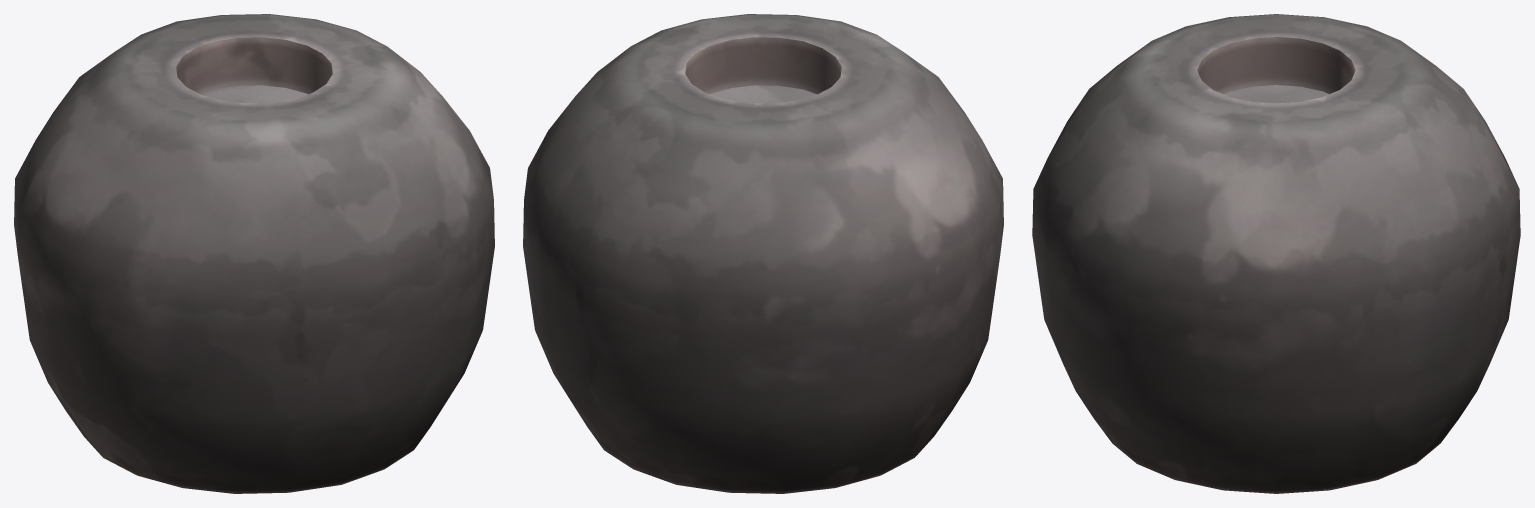
File: SM_Vase_05.fbx
The picture shows the model from 3 angles, left to right: view 1: azimuth 30°, elevation 25°; view 2: azimuth 150°, elevation 25°; view 3: azimuth 270°, elevation 25°; orthographic projection.
Parts seen in each view (by area): view 1: SM_Vase_05_LOD0; view 2: SM_Vase_05_LOD0; view 3: SM_Vase_05_LOD0.
Part boxes in pixels (x1,y1,x2,y2): SM_Vase_05_LOD0: (14, 14, 494, 493); SM_Vase_05_LOD0: (523, 14, 1003, 493); SM_Vase_05_LOD0: (1032, 14, 1520, 493).
Size of the model in its own units: 32.78 by 33.15 by 26.22.
1 material, 1 textured.
